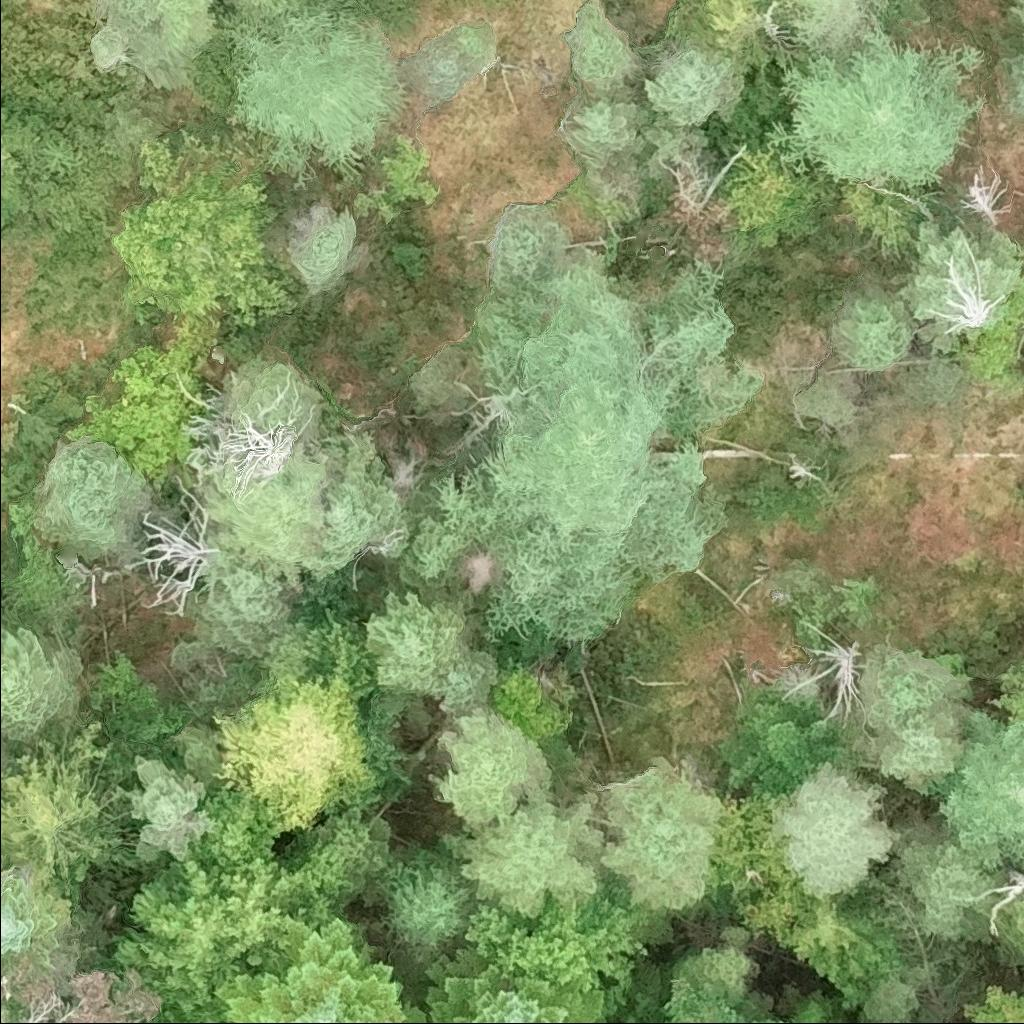crown: (419, 248, 760, 645), (771, 22, 988, 195), (114, 856, 319, 1023), (220, 4, 401, 190), (116, 152, 296, 323), (0, 715, 156, 898), (212, 671, 373, 840), (212, 900, 427, 1023), (64, 318, 210, 491), (440, 781, 614, 924), (462, 884, 652, 991), (596, 755, 724, 913), (201, 450, 337, 595), (421, 701, 560, 833), (776, 761, 902, 903), (407, 946, 620, 1023), (302, 426, 401, 582), (32, 443, 155, 564), (366, 845, 486, 967), (359, 585, 476, 703), (939, 709, 1023, 872), (719, 688, 840, 799), (890, 812, 994, 941), (125, 477, 216, 616), (0, 624, 89, 753), (190, 551, 292, 658), (126, 752, 213, 876), (857, 709, 975, 800), (857, 643, 972, 733), (709, 793, 800, 900), (0, 964, 163, 1023), (0, 863, 77, 966), (645, 48, 744, 128), (206, 416, 297, 501), (489, 201, 570, 292), (833, 287, 914, 374), (190, 788, 280, 865), (562, 0, 636, 87), (773, 0, 889, 51), (681, 0, 773, 63), (287, 205, 356, 288), (427, 647, 500, 721), (401, 33, 481, 100), (566, 102, 645, 164), (154, 0, 217, 66), (667, 979, 752, 1023), (987, 865, 1023, 938), (958, 984, 1023, 1023), (985, 660, 1023, 724), (232, 0, 311, 23), (1011, 62, 1023, 116), (0, 738, 21, 766), (1010, 0, 1023, 28), (0, 144, 9, 162), (774, 1022, 786, 1023), (0, 593, 1, 604)
